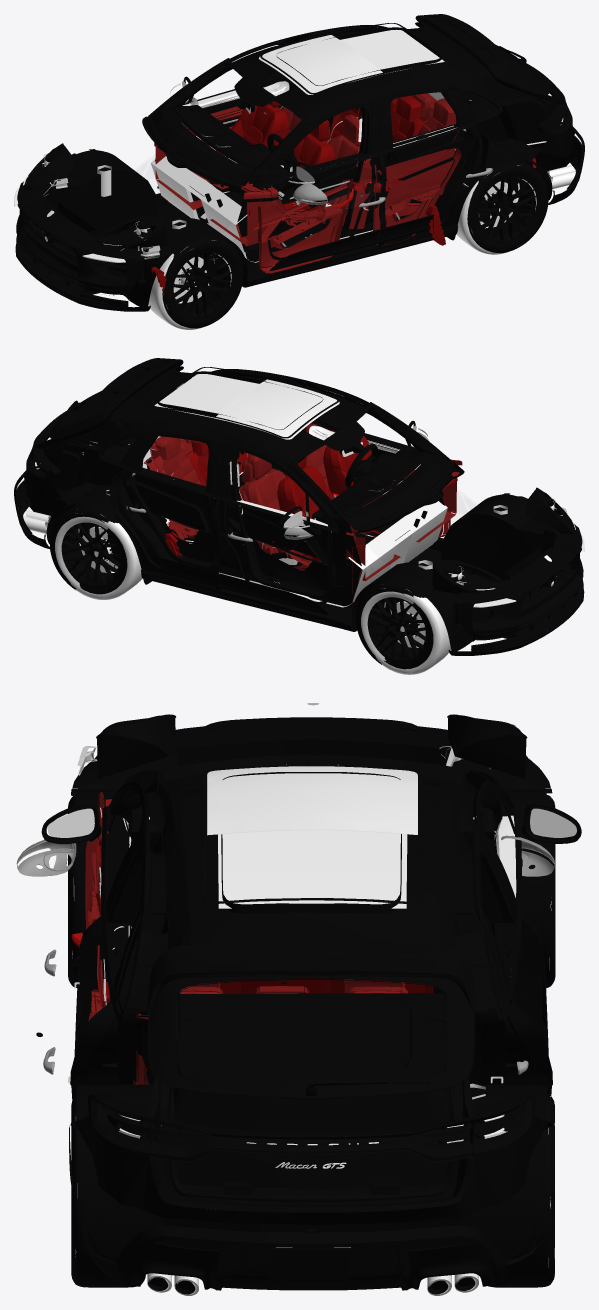
Rendered from macan.glb.
3 renders of one model, top to bottom at view 1: azimuth 30°, elevation 25°; view 2: azimuth 150°, elevation 25°; view 3: azimuth 270°, elevation 25°, orthographic. The views are drawn at different scales.
Visible parts, largest first — view 1: RIDE_BODY, Object_43_WHEEL, Object_2_WHEEL, Object_38_WHEEL; view 2: RIDE_BODY, Object_43_WHEEL, Object_2_WHEEL; view 3: RIDE_BODY, Object_43_WHEEL.
Boxes of the visible parts, bbox=[...] form: RIDE_BODY: bbox=[14, 14, 584, 311]; Object_43_WHEEL: bbox=[162, 160, 548, 328]; Object_2_WHEEL: bbox=[148, 165, 536, 329]; Object_38_WHEEL: bbox=[151, 204, 445, 296]; RIDE_BODY: bbox=[14, 358, 584, 655]; Object_43_WHEEL: bbox=[49, 504, 433, 669]; Object_2_WHEEL: bbox=[55, 513, 451, 674]; RIDE_BODY: bbox=[16, 703, 582, 1295]; Object_43_WHEEL: bbox=[68, 795, 555, 1287].
Size of what is drawn, in the model's own units: 596564 by 199323 by 281513.
